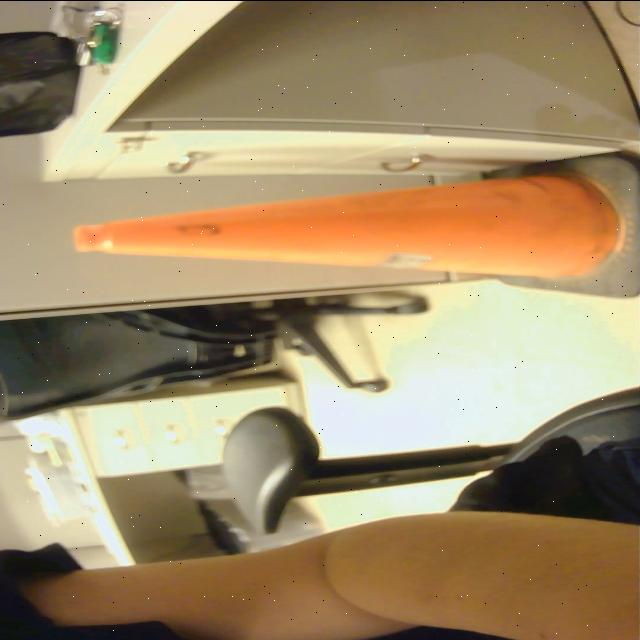traffic cone: (67, 140, 640, 307)
